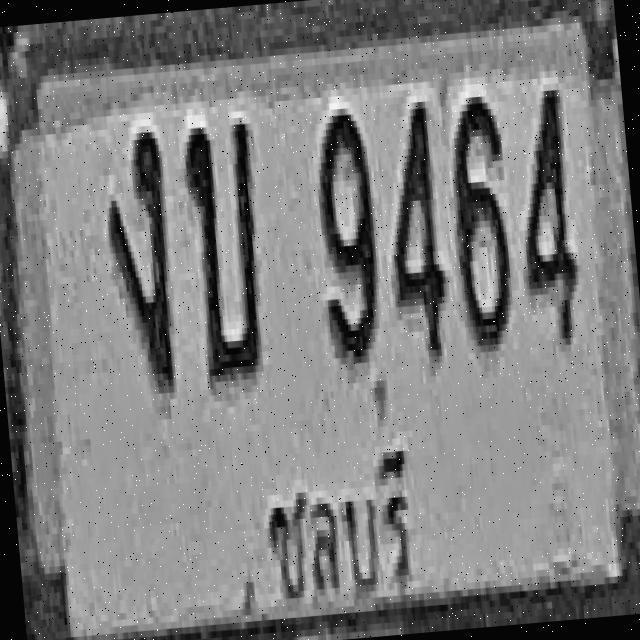16NgorNgu: (100, 125, 180, 396)
35BorBaiMai: (180, 116, 270, 382)
4: (508, 82, 584, 348), (379, 98, 451, 362)
6: (443, 88, 518, 353)
9: (308, 107, 384, 365)
Chonburi: (242, 407, 426, 628)
